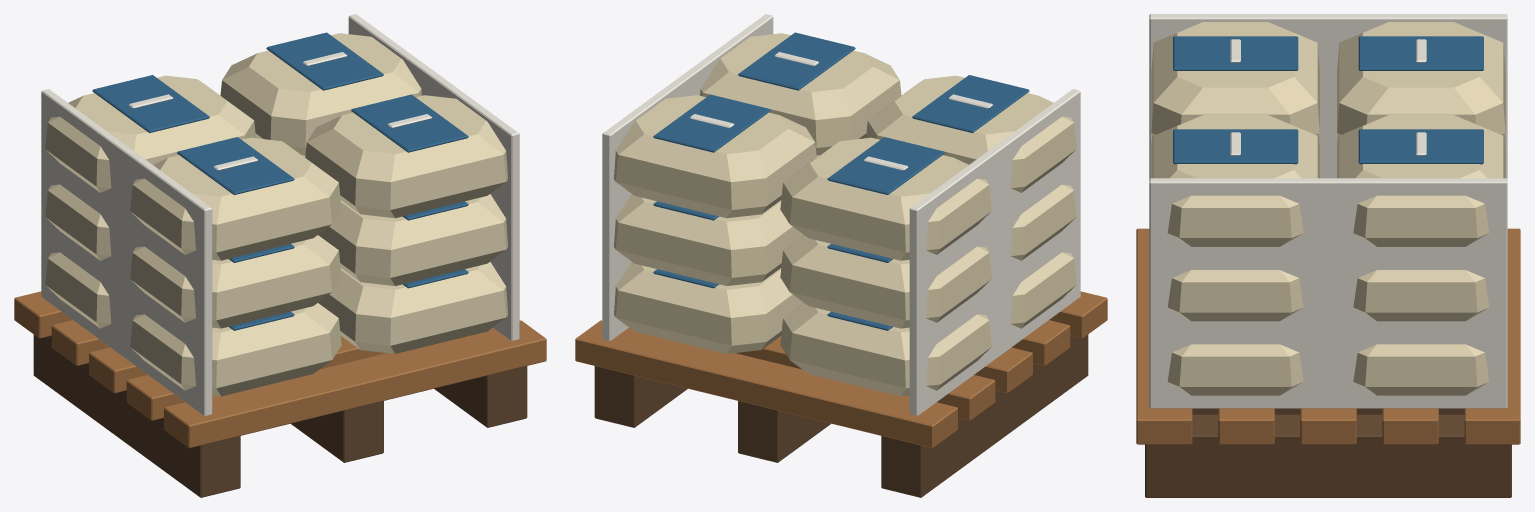
Rendered from b20_bagged_road_salt_pallet.glb.
3 renders of one model, left to right at view 1: azimuth 30°, elevation 25°; view 2: azimuth 150°, elevation 25°; view 3: azimuth 270°, elevation 25°, orthographic. The views are drawn at different scales.
Visible parts, largest first — view 1: b20_bagged_road_salt_pallet; view 2: b20_bagged_road_salt_pallet; view 3: b20_bagged_road_salt_pallet.
Boxes of the visible parts, x1,y1,x2,y2 form: b20_bagged_road_salt_pallet: (14,14,546,497); b20_bagged_road_salt_pallet: (575,14,1107,497); b20_bagged_road_salt_pallet: (1136,14,1520,497).
Size of the model in its own units: 1.05 by 0.804 by 0.89.
